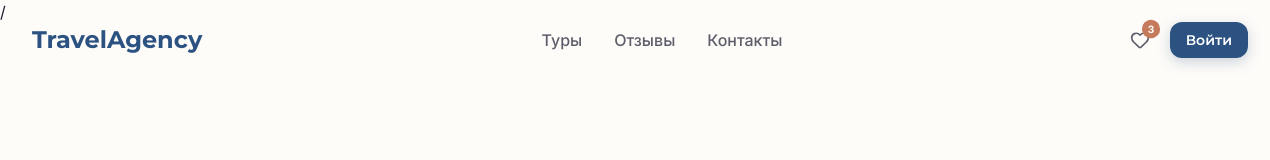
Scenario: Header pointer › ТК-10 на широкой полосе курсор ссылки только у нажимаемых пунктов
The width and height of the screenshot is (1270, 160).
Expected: the link "3" is shown, [1130,20,1160,50]
Click the button "Туры" at (562, 40), box [542,28,582,52]
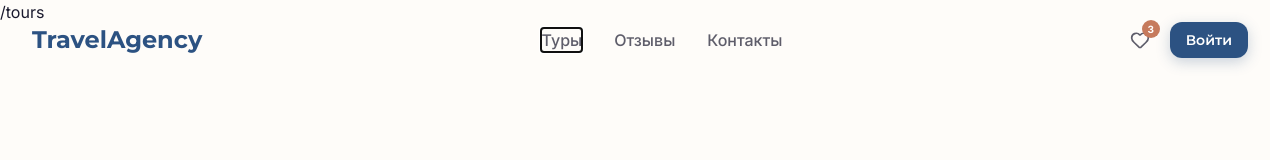
Expected: the text with test id "location" reads "/tours", [0,2,44,22]
